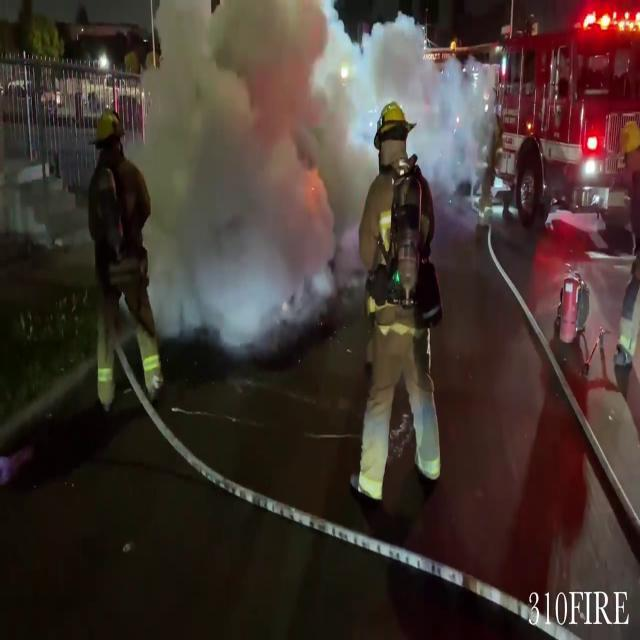Smoke: (142, 1, 360, 323), (324, 3, 502, 196)
